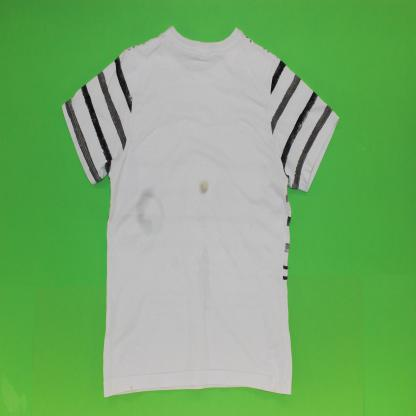stain: (134, 184, 167, 238), (196, 177, 211, 197)
